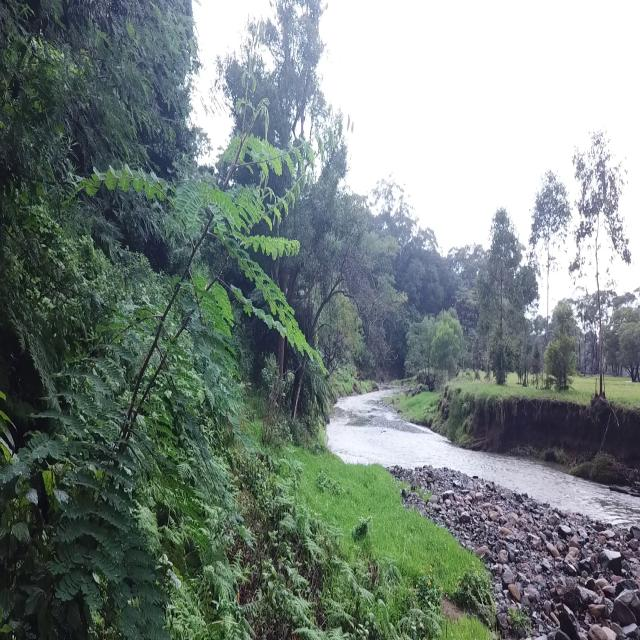Mysore-Thorn-Weed: (2, 62, 343, 640)
